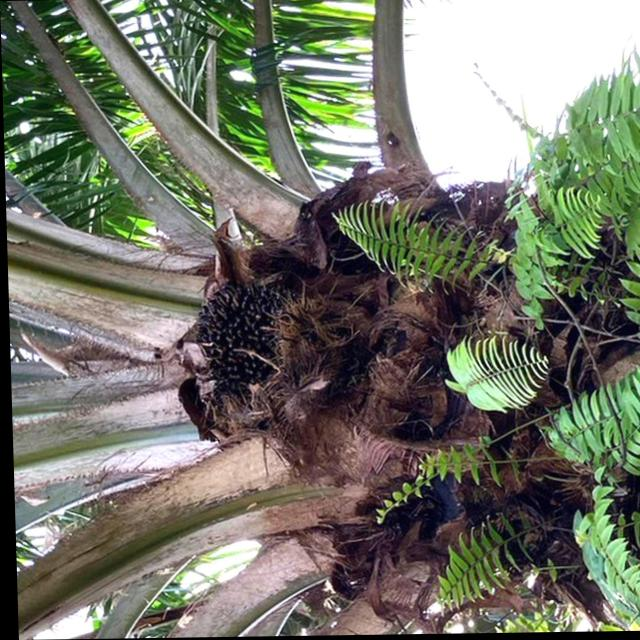unripe: (172, 272, 352, 432)
